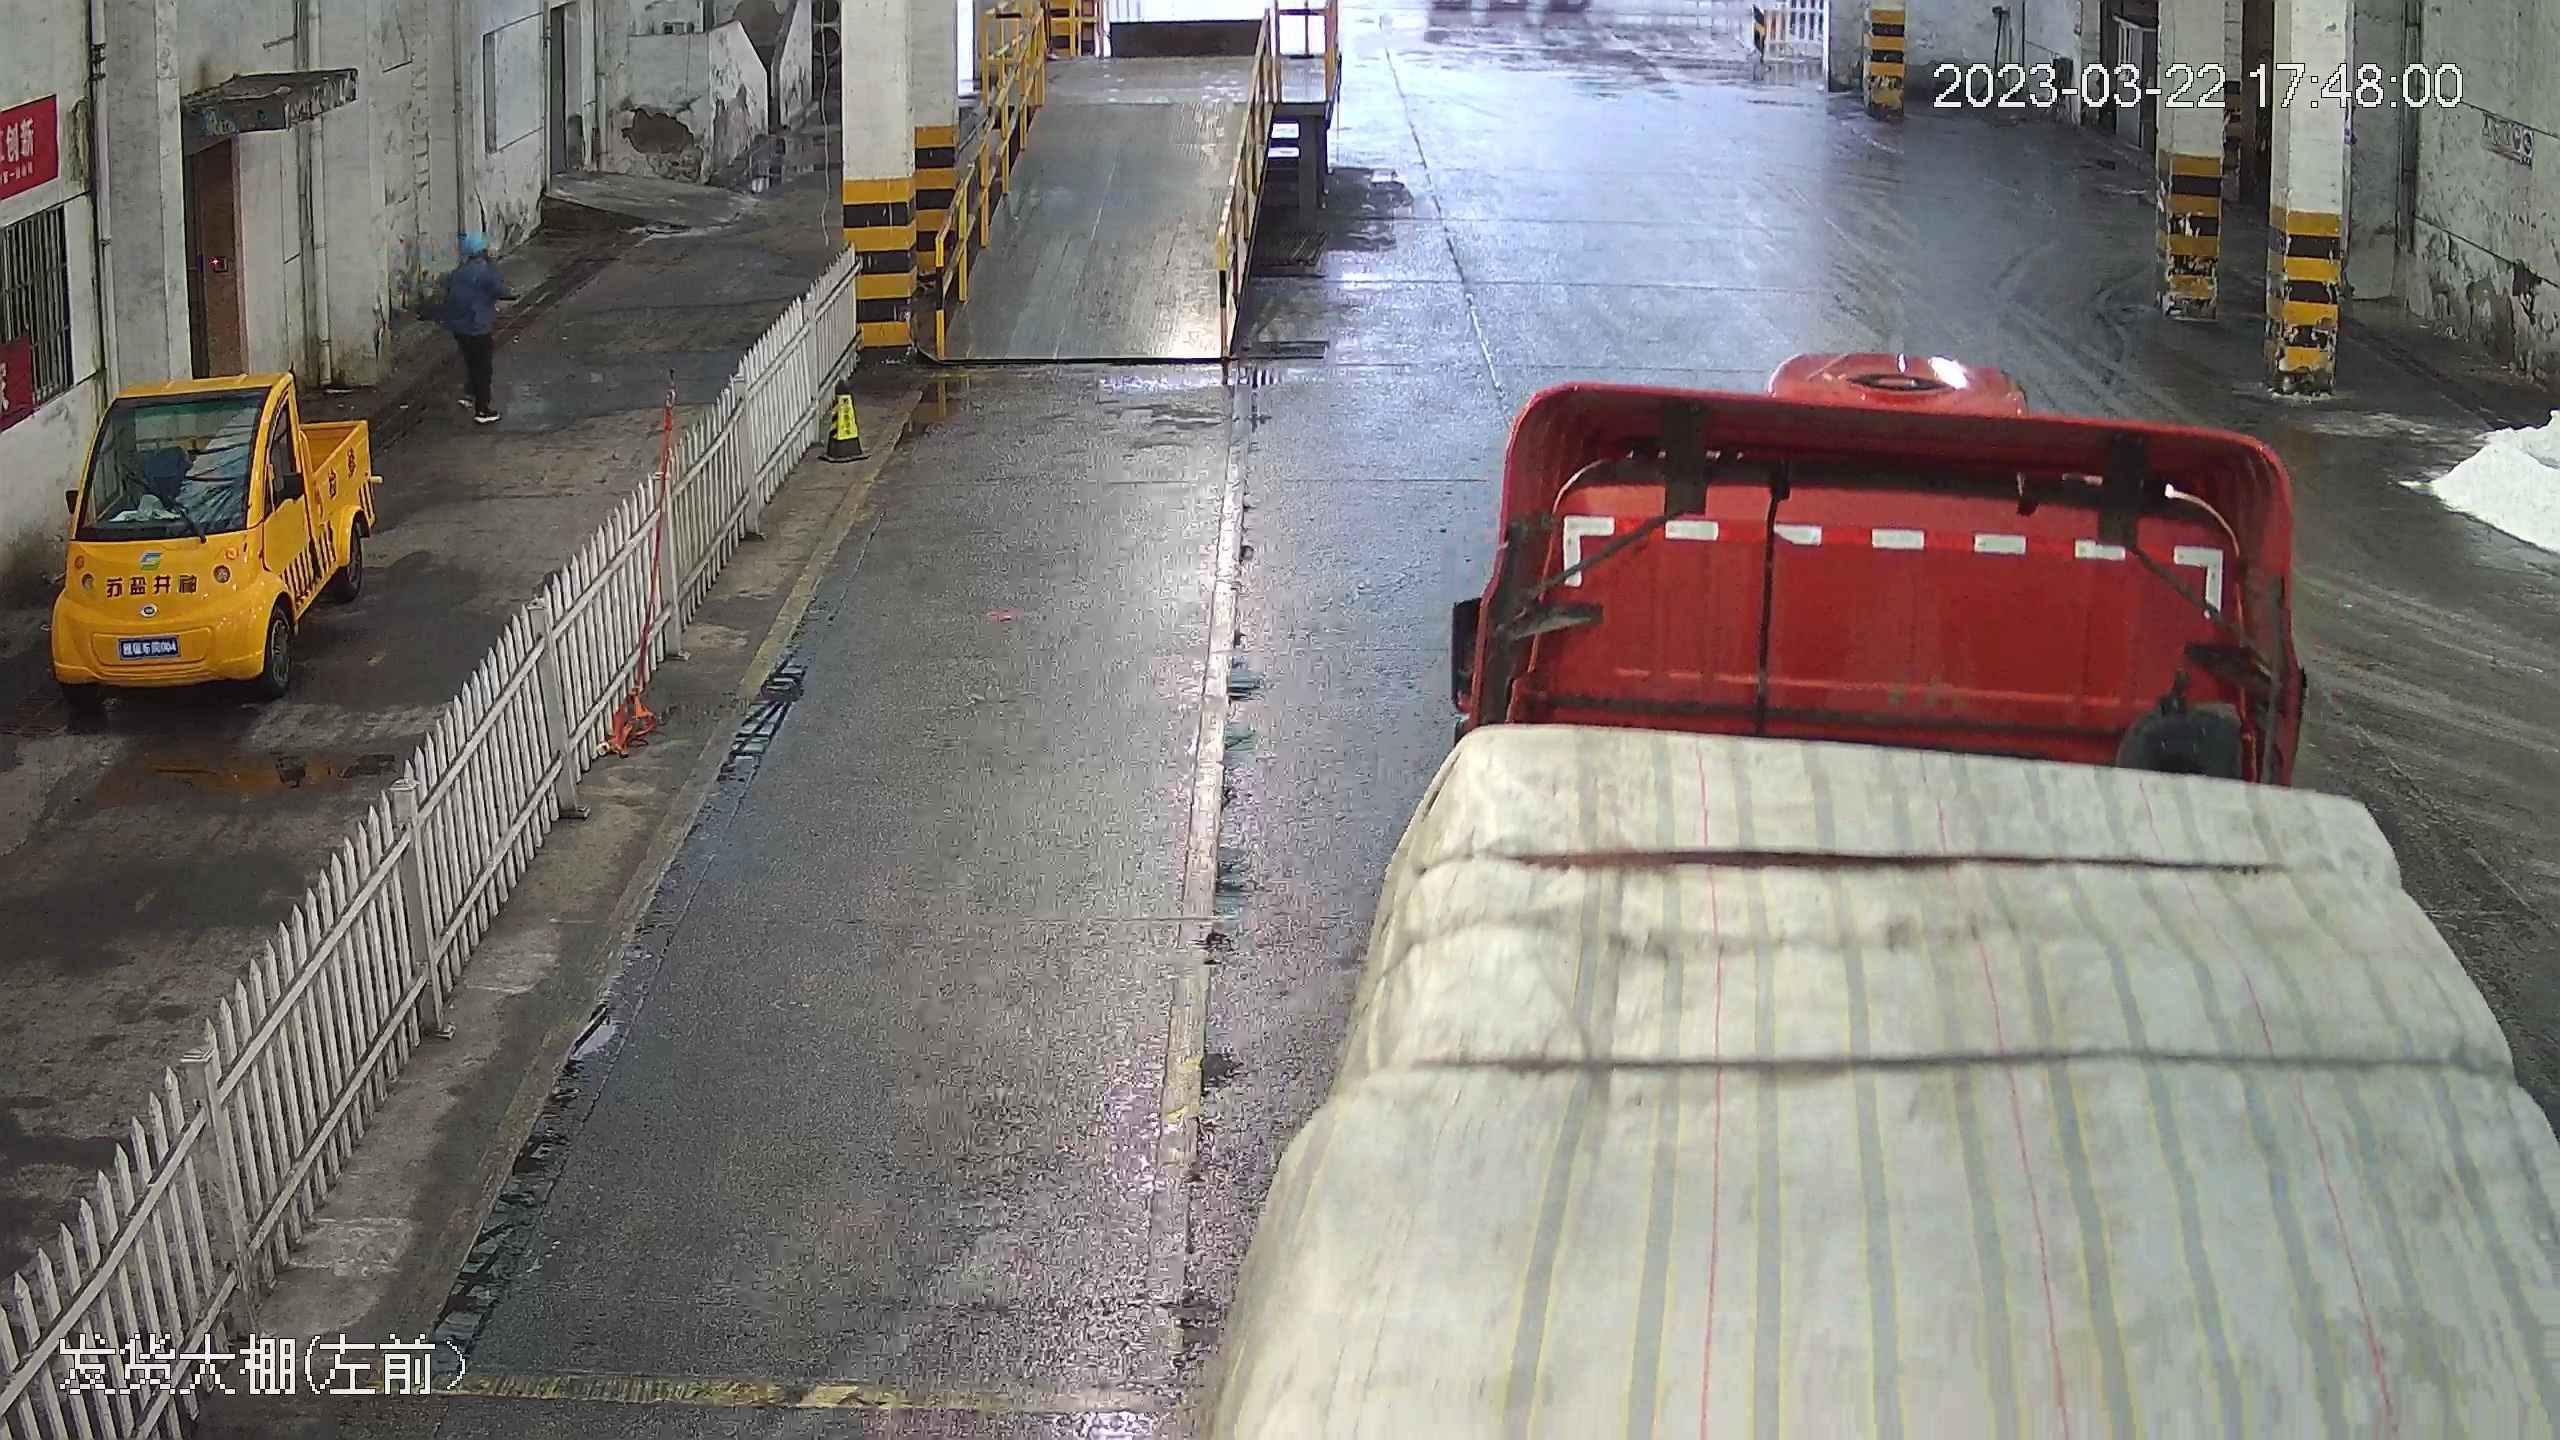head: (448, 225, 506, 287)
helmet: (464, 224, 495, 253)
people: (437, 222, 510, 427)
truck: (1120, 347, 2560, 1440)
